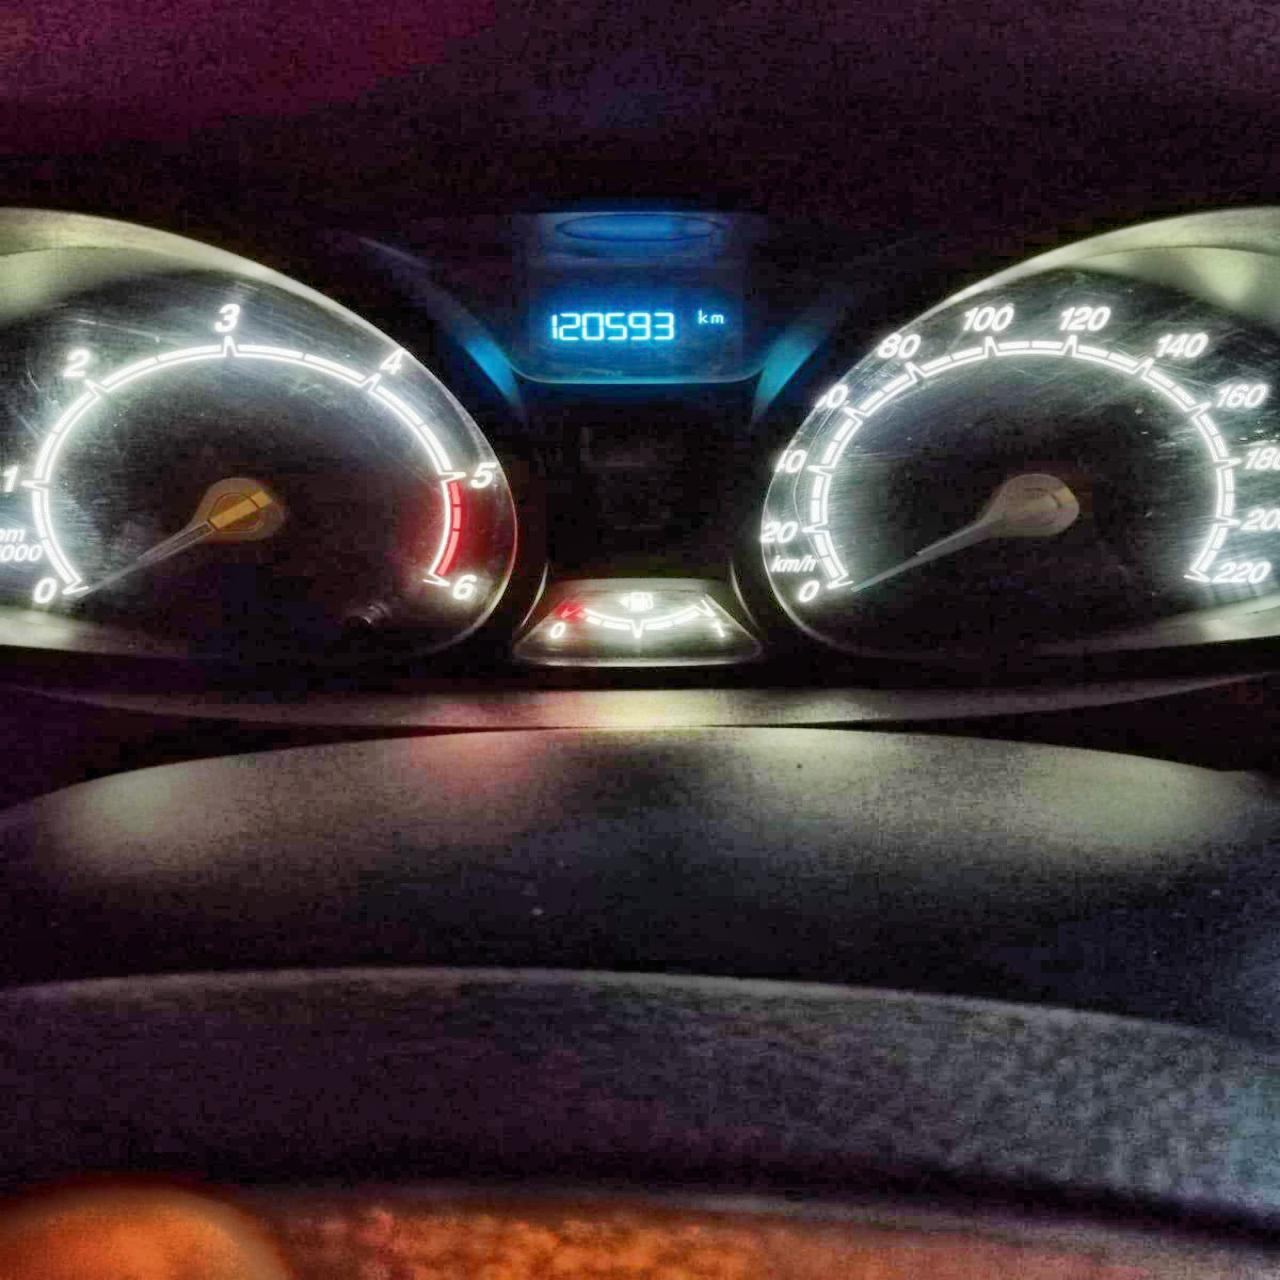0: (580, 311, 604, 341)
1: (550, 312, 558, 341)
2: (559, 312, 579, 342)
3: (653, 311, 674, 341)
5: (606, 311, 627, 340)
9: (628, 309, 649, 340)
X: (696, 306, 708, 324), (710, 311, 724, 324)
odometer: (531, 292, 736, 366)
